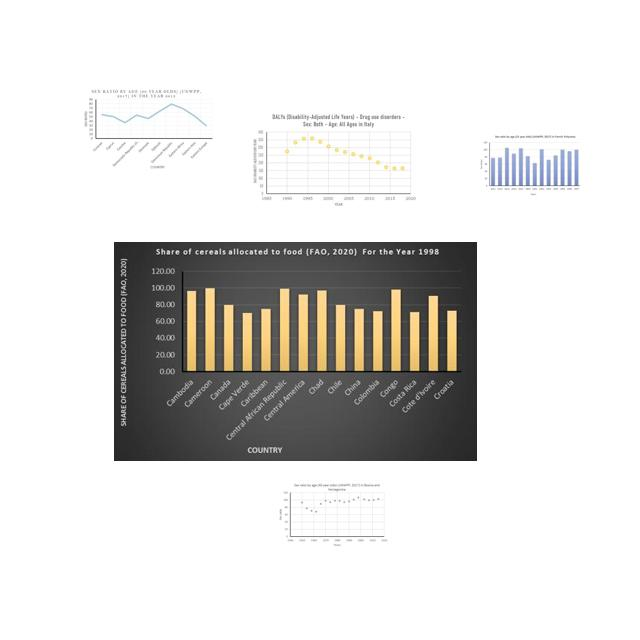Graph: (114, 242, 477, 461), (250, 111, 418, 210), (79, 88, 214, 169), (276, 480, 388, 548), (477, 133, 585, 198)
